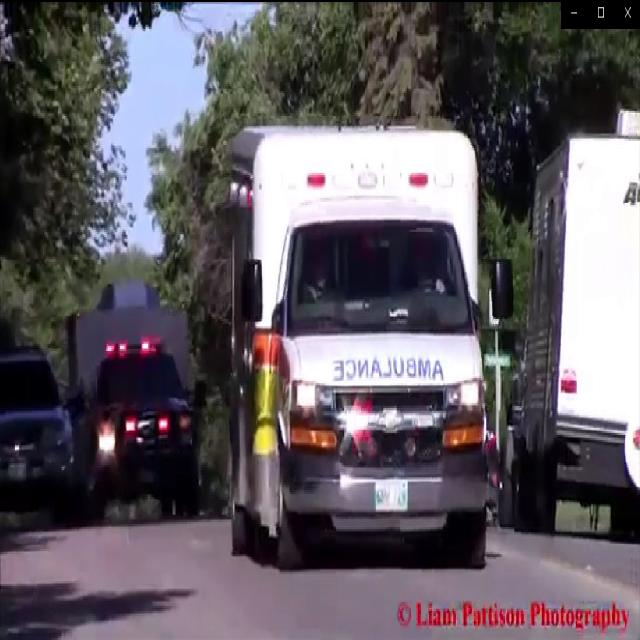emergency: (228, 114, 497, 567), (61, 277, 213, 525)
